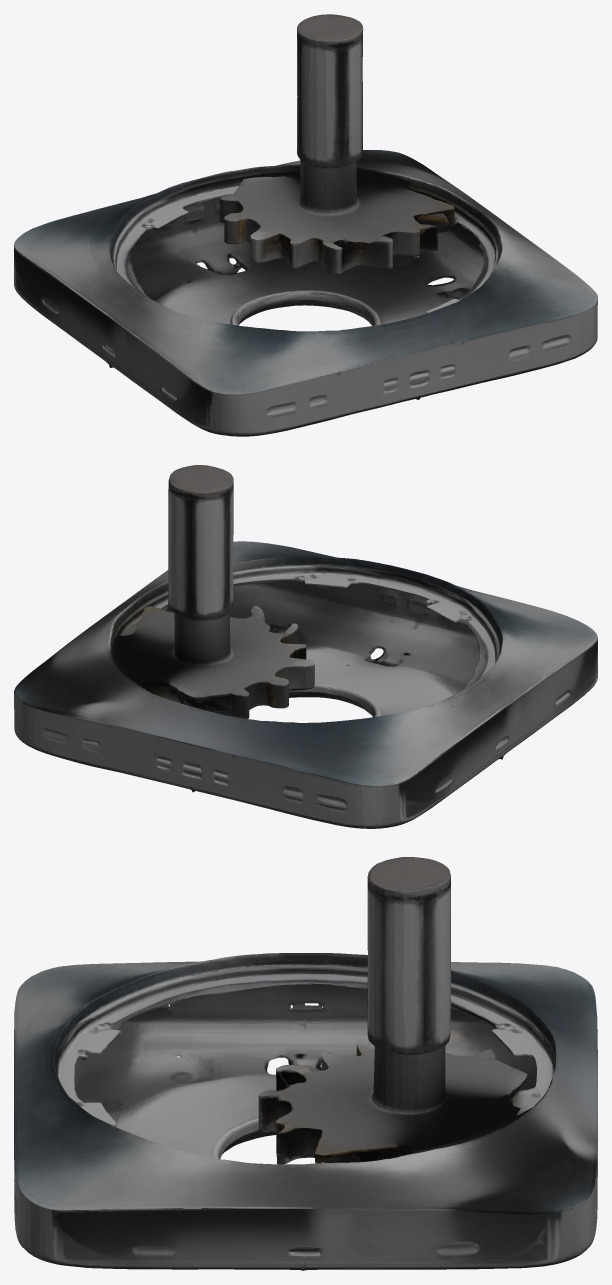
Rendered from 42ad4615-675b-49a8-9c60-4e8837acca1f.glb.
The picture shows the model from 3 angles, top to bottom: view 1: azimuth 30°, elevation 25°; view 2: azimuth 150°, elevation 25°; view 3: azimuth 270°, elevation 25°; orthographic projection. The views are drawn at different scales.
Parts seen in each view (by area): view 1: world; view 2: world; view 3: world.
Part boxes in pixels (x1,y1,x2,y2): world: (14, 14, 597, 436); world: (14, 465, 597, 828); world: (14, 857, 597, 1270).
Size of the model in its own units: 1 by 0.6422 by 1.
Materials: 1 (1 with a texture image).
